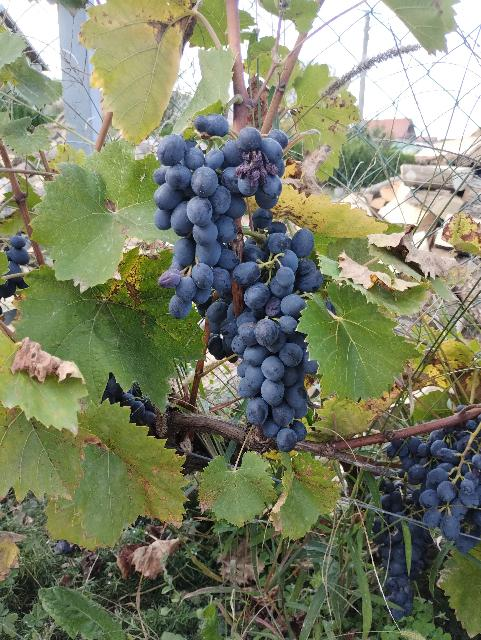grapes: (206, 208, 324, 452), (154, 129, 284, 319), (380, 420, 481, 551), (372, 481, 432, 620)
